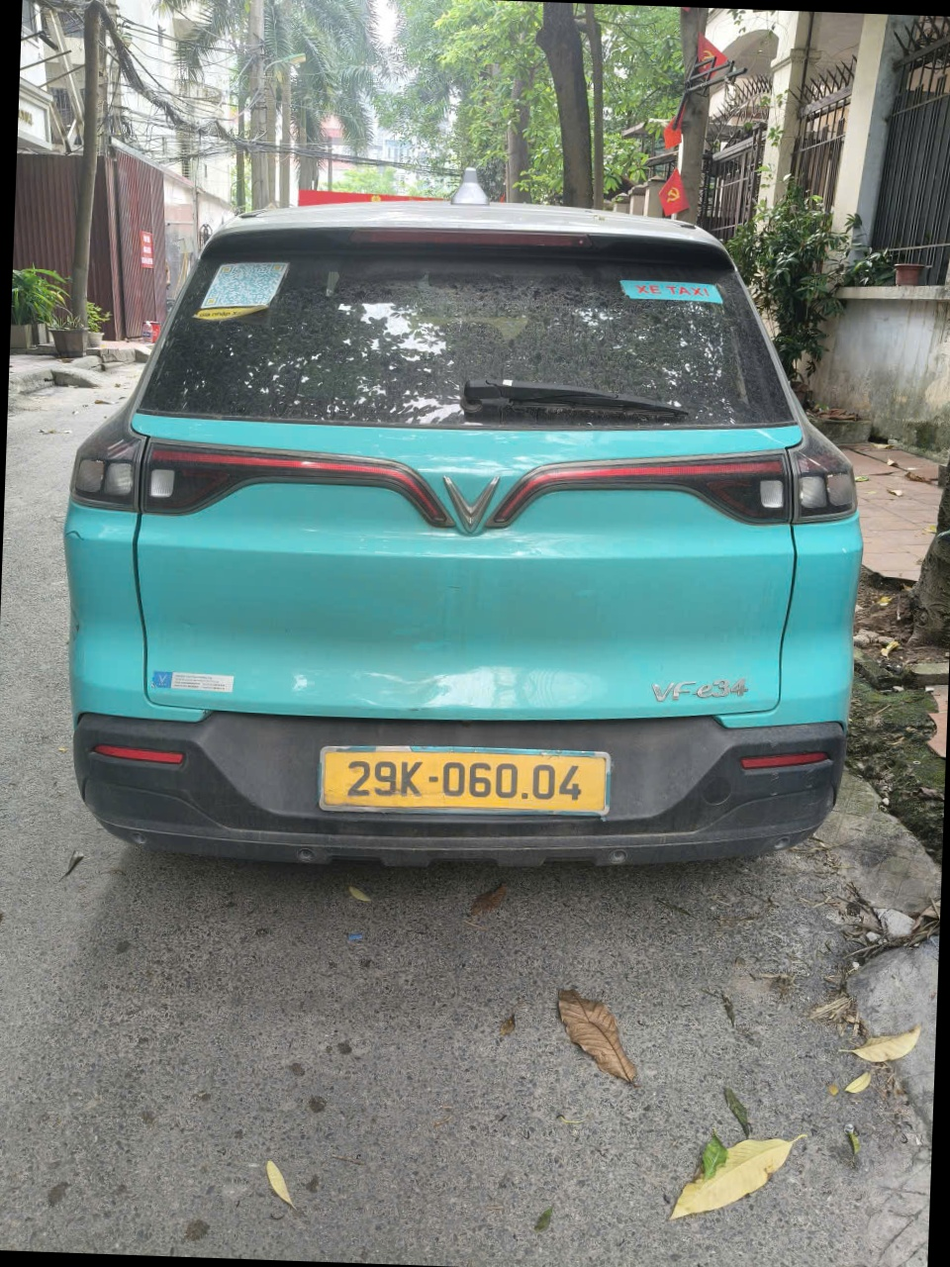plate: (644, 675, 755, 707)
